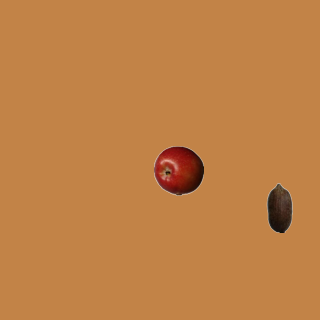Apple Braeburn: (153, 145, 203, 195)
Nut Pecan: (254, 182, 304, 232)
